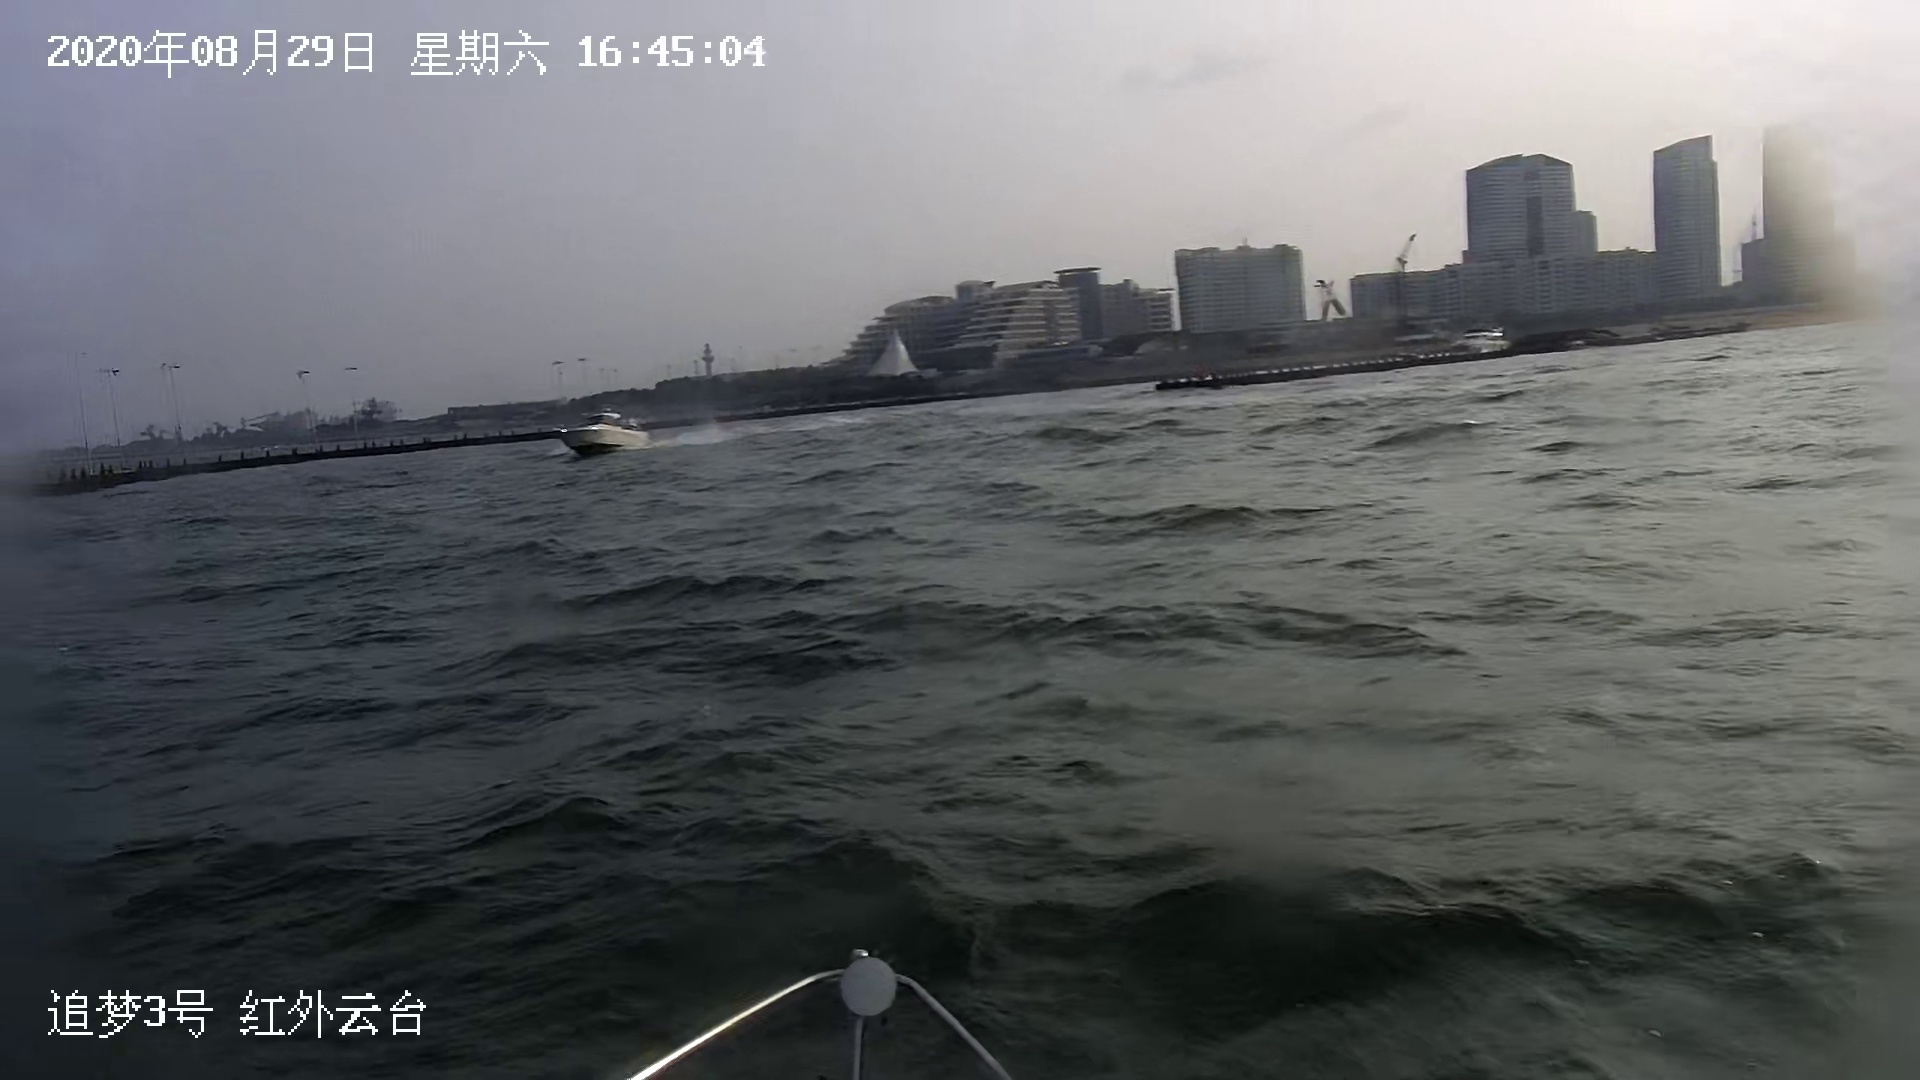barrier: (558, 413, 647, 459), (1451, 332, 1516, 355)
coast: (15, 90, 1920, 492)
